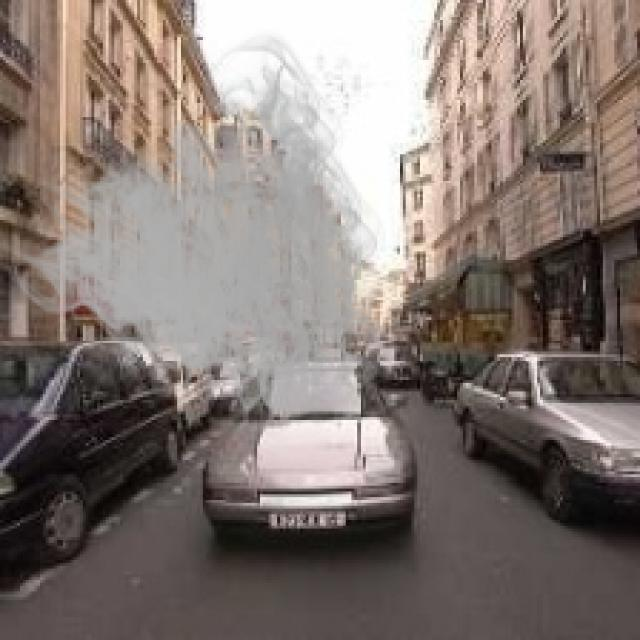smoke: (0, 29, 406, 448)
